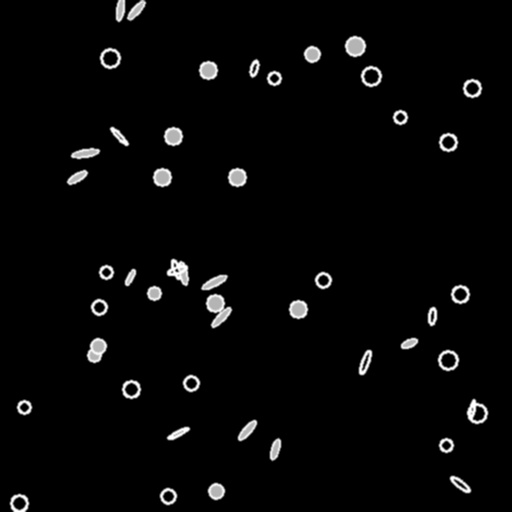pseudomonas: (200, 273, 228, 291), (236, 419, 258, 441), (211, 306, 231, 328), (126, 0, 146, 21), (109, 126, 129, 146), (449, 475, 471, 493), (358, 350, 372, 374), (67, 169, 87, 185), (169, 258, 183, 280), (167, 426, 189, 440), (166, 263, 188, 277), (269, 438, 281, 460), (72, 148, 98, 158), (400, 336, 418, 350), (178, 261, 188, 285), (248, 59, 260, 77), (115, 0, 125, 20), (124, 269, 136, 285), (468, 400, 476, 418), (428, 307, 436, 325)
synechocystis: (362, 67, 380, 85), (346, 37, 364, 55), (439, 351, 457, 369), (468, 404, 486, 422), (101, 49, 119, 67), (165, 128, 181, 144), (11, 495, 27, 511), (290, 301, 306, 317), (229, 169, 245, 185), (207, 295, 223, 311), (452, 286, 468, 302), (123, 381, 139, 397), (440, 134, 456, 150), (464, 80, 480, 96), (154, 169, 170, 185), (200, 62, 216, 78), (184, 376, 198, 390), (305, 47, 319, 61), (92, 300, 106, 314), (316, 273, 330, 287), (209, 484, 223, 498), (91, 339, 105, 353), (161, 489, 175, 503), (268, 72, 280, 84), (394, 111, 406, 123), (88, 349, 100, 361), (148, 287, 160, 299), (100, 266, 112, 278), (440, 439, 452, 451), (18, 401, 30, 413)
